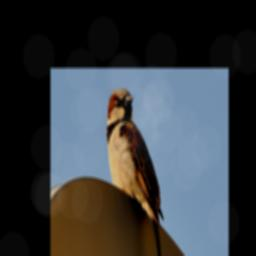Swallow: (105, 88, 164, 256)
